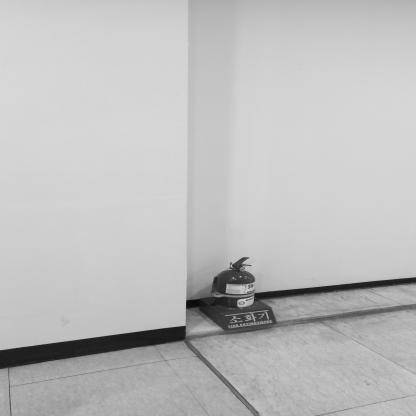FE: (199, 257, 278, 332)
